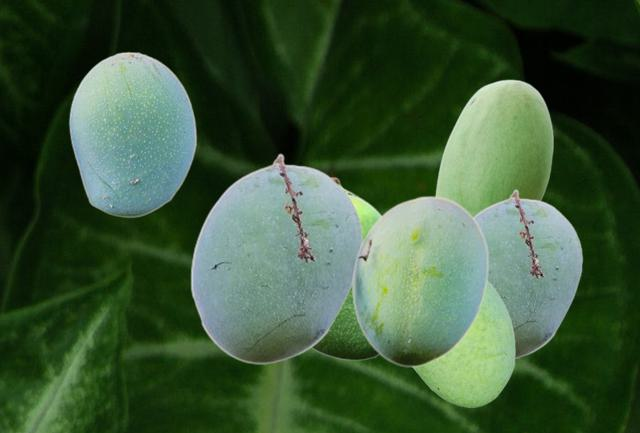green_mango: (190, 153, 362, 363), (351, 195, 488, 366), (68, 51, 196, 217), (474, 189, 582, 360), (435, 79, 552, 214), (412, 281, 514, 406), (312, 176, 380, 360)
